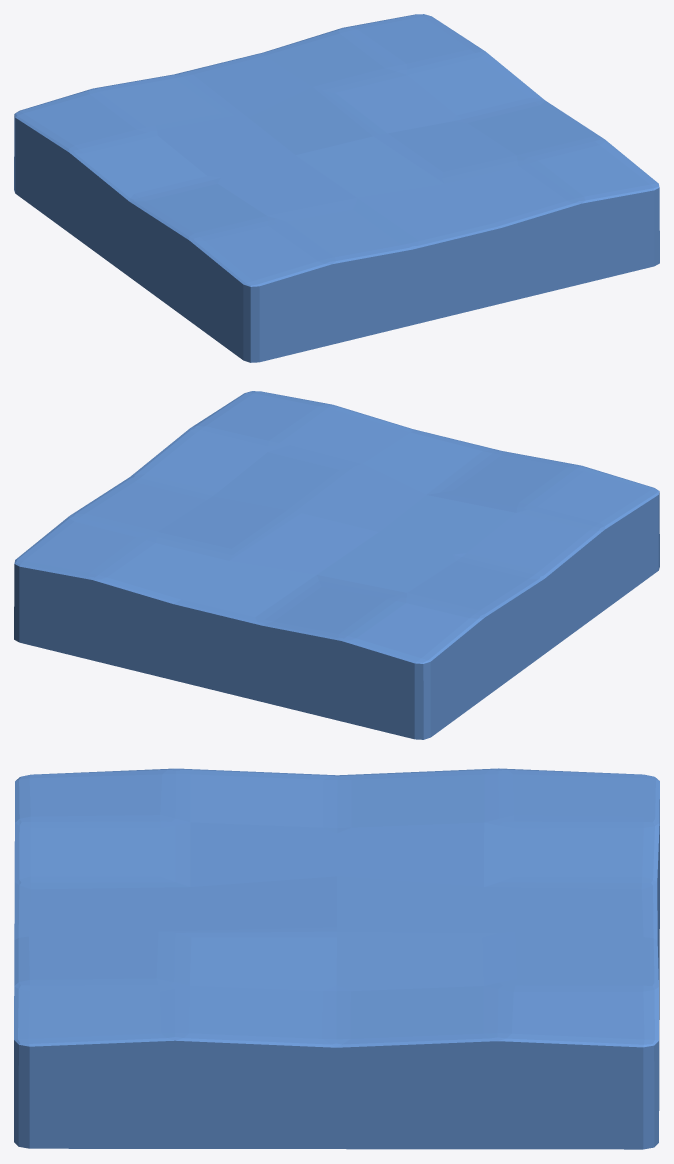
Rendered from ground-tile-3.fbx.
3 renders of one model, top to bottom at view 1: azimuth 30°, elevation 25°; view 2: azimuth 150°, elevation 25°; view 3: azimuth 270°, elevation 25°, orthographic. The views are drawn at different scales.
Visible parts, largest first — view 1: grass.083; view 2: grass.083; view 3: grass.083.
Boxes of the visible parts, <box> form: grass.083: <box>14,14,659,362</box>; grass.083: <box>14,391,659,739</box>; grass.083: <box>14,768,659,1149</box>.
Bounding box in the file's own units: 602 × 114 × 602.
